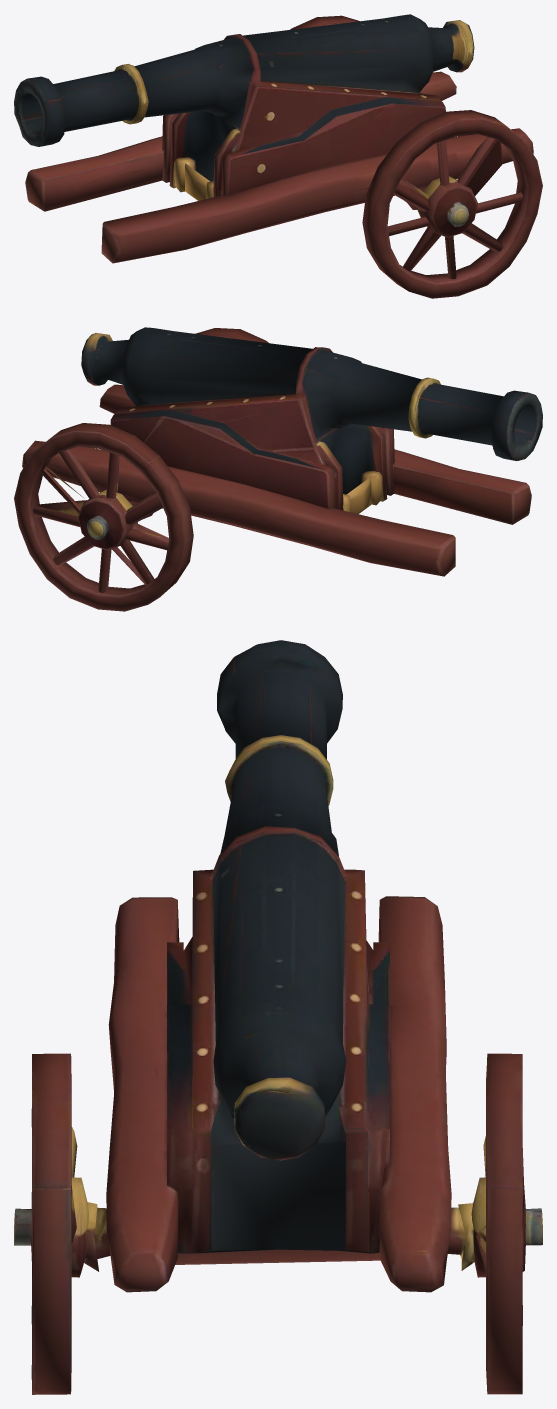
Rendered from cannon.glb.
The picture shows the model from 3 angles, top to bottom: view 1: azimuth 30°, elevation 25°; view 2: azimuth 150°, elevation 25°; view 3: azimuth 270°, elevation 25°; orthographic projection. The views are drawn at different scales.
Size of the model in its own units: 0.9556 by 0.4942 by 0.5425.
Materials: 1 (1 with a texture image).
